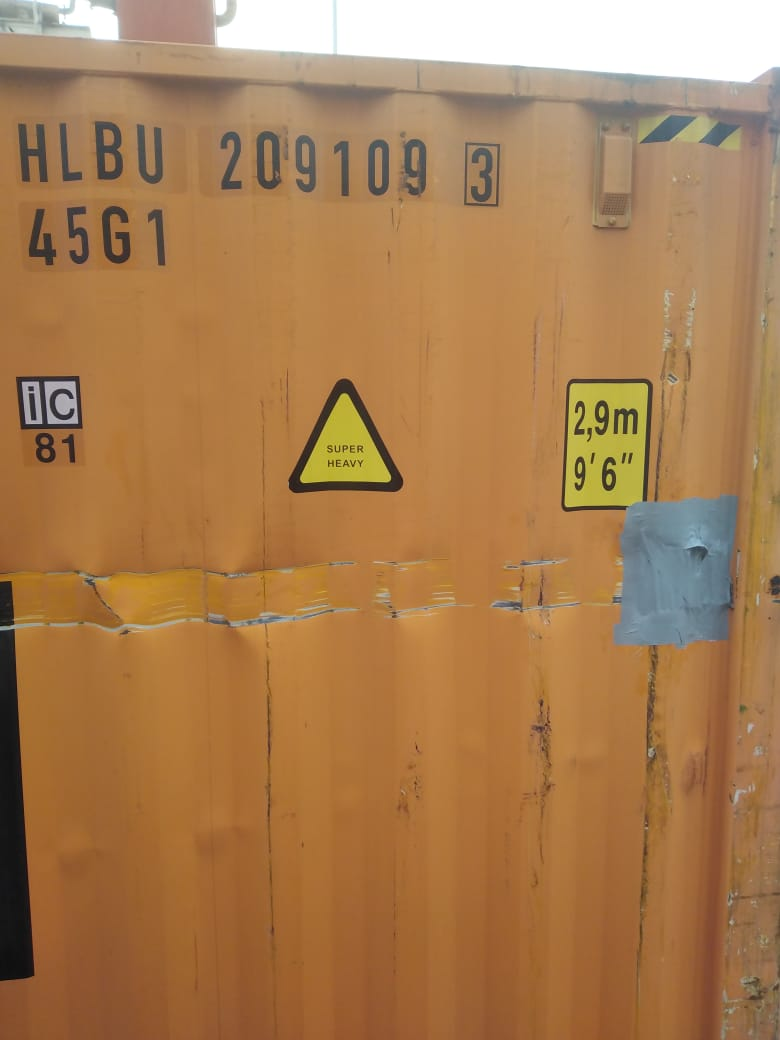dented: (46, 550, 550, 654)
